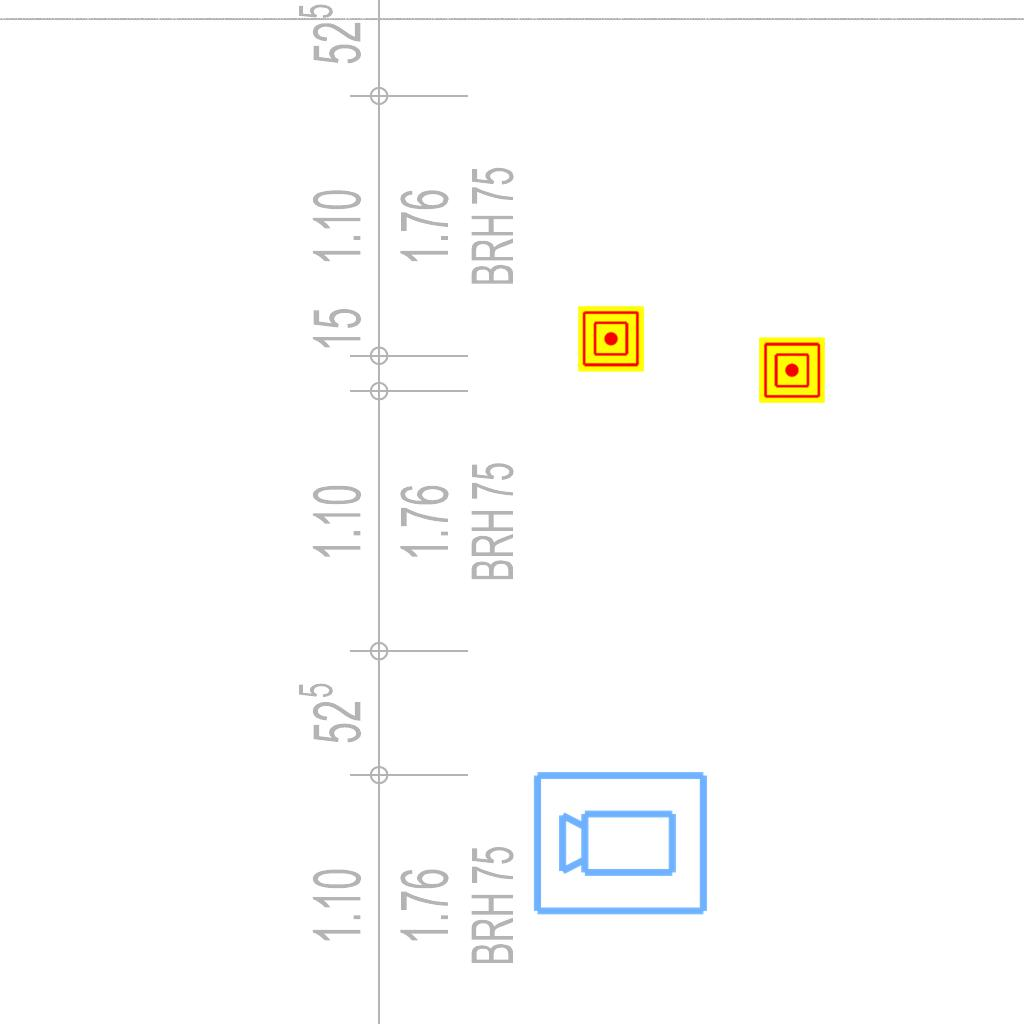KFO_Kamera_mit_Festobjektiv: (530, 765, 712, 919)
NAM-Nichtautomatischer_Melder: (759, 337, 825, 403), (578, 306, 644, 372)
